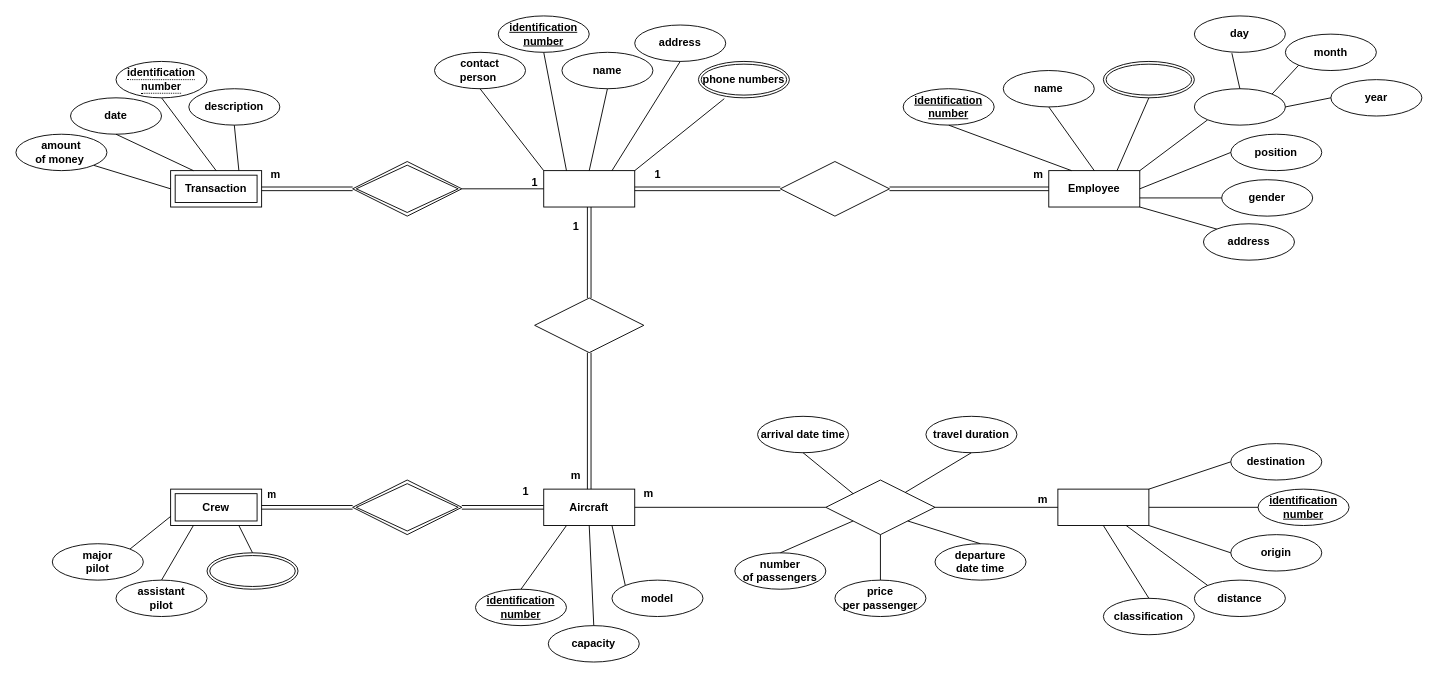
Some shapes in this 1438 by 678 pixel diagram are drawn without their labels. Each missing label, with the centre of its shape:
Airline: point 589,188
Assign: point 880,507
birthday: point 1239,106
Has: point 407,507
Keeps: point 407,188
Owns: point 589,325
qualifications: point 1148,79
Route: point 1103,507
two hostesses: point 252,570
Works: point 834,188
